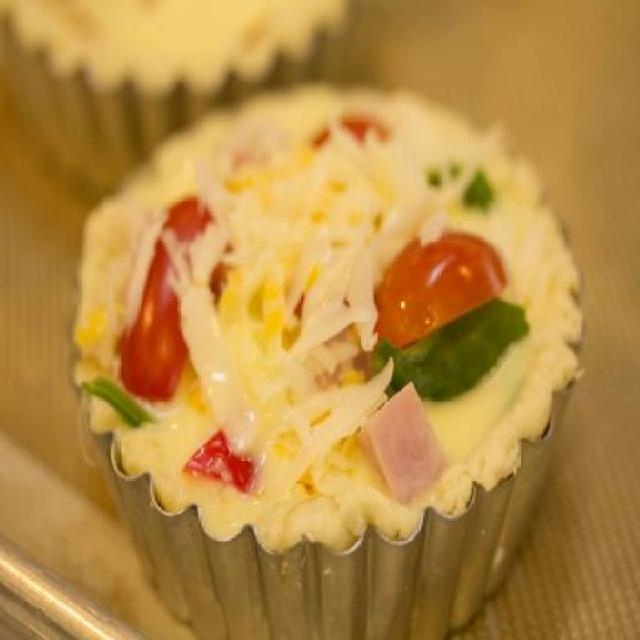Muffin: (56, 80, 604, 608), (0, 0, 358, 181)
